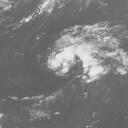cyclone: (47, 24, 120, 78)
